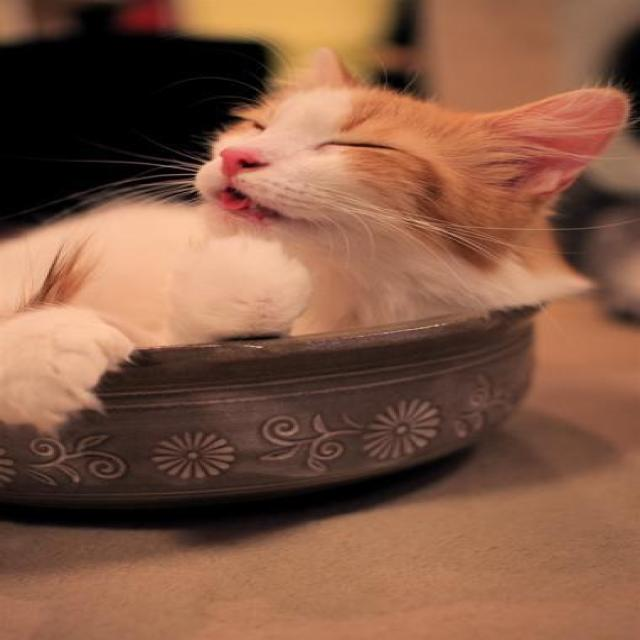cat: (0, 46, 640, 427)
